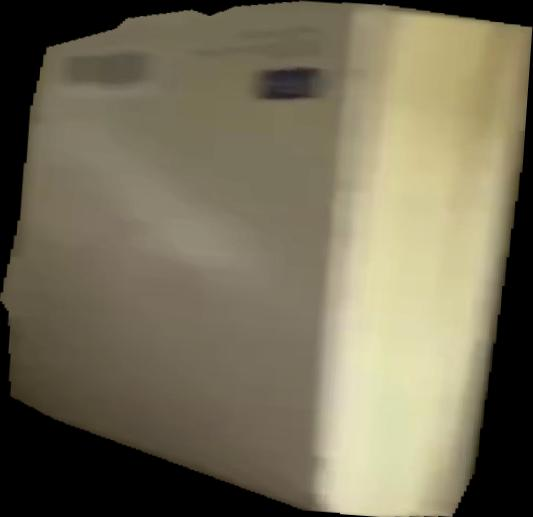backward: (1, 1, 533, 517)
